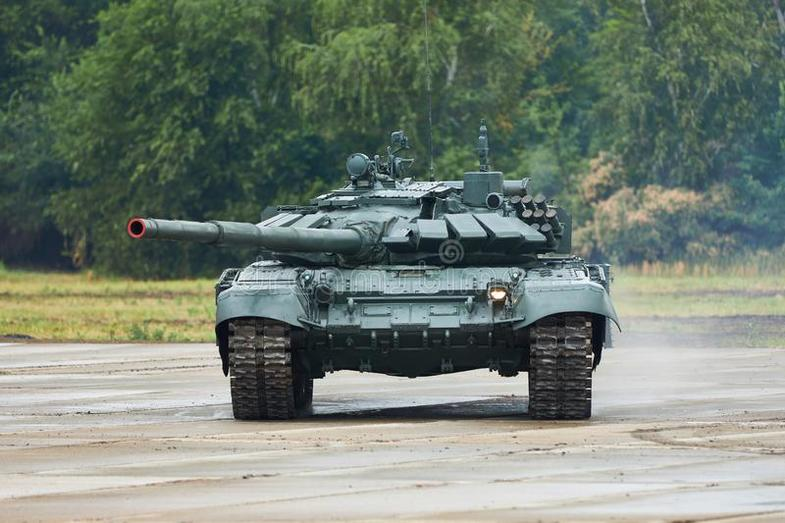t72: (127, 170, 612, 424)
